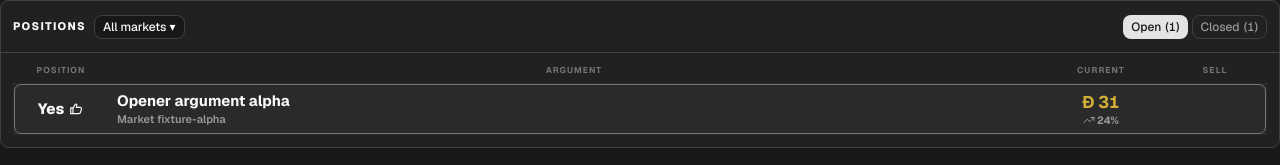
Test: HTML-FINISH profile rows 2 · 7 — the arena panels and their bars › row7a::the-market-filter-is-a-BUTTON-that-opens-a-popover-list
Click the button with test id "positions-market-filter" at [139, 27], box [94, 15, 184, 39]
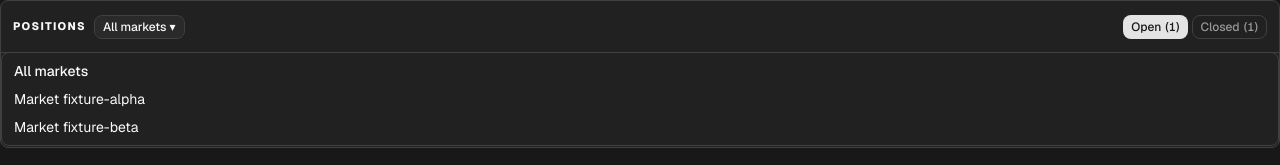
Expected: the number of options is 3, [6, 57, 1274, 85]; [6, 85, 1274, 113]; [6, 113, 1274, 141]
